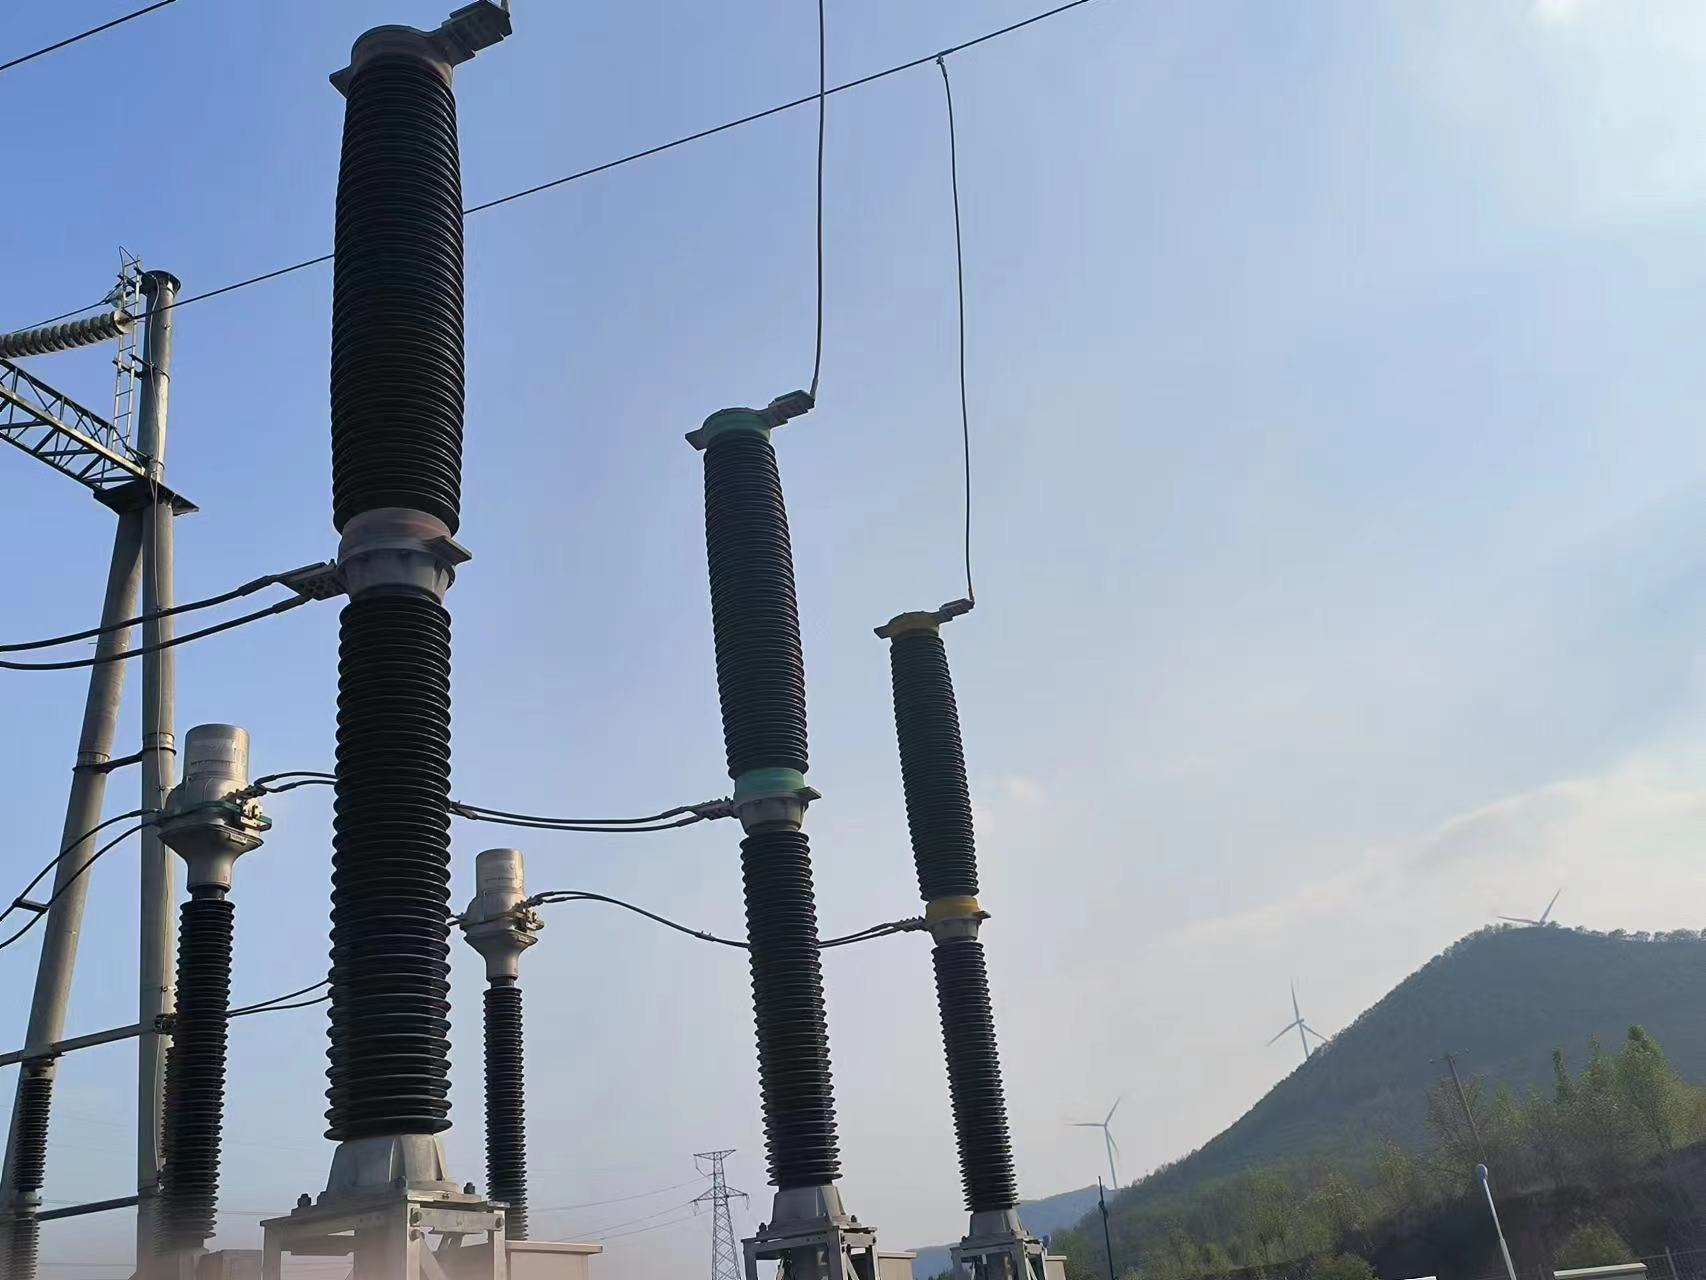Circuit-breaker: (321, 1, 512, 1201), (684, 385, 847, 1230), (871, 596, 1032, 1246)
